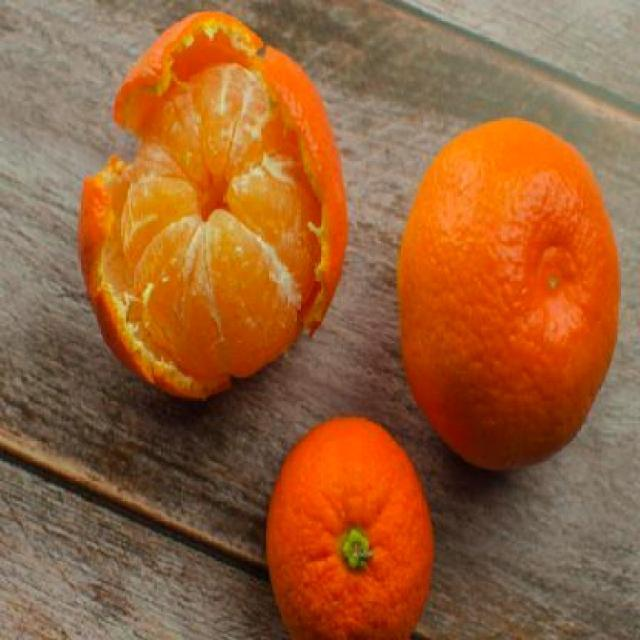Jeruk Sudah Matang: (399, 120, 624, 466), (264, 420, 436, 638)
